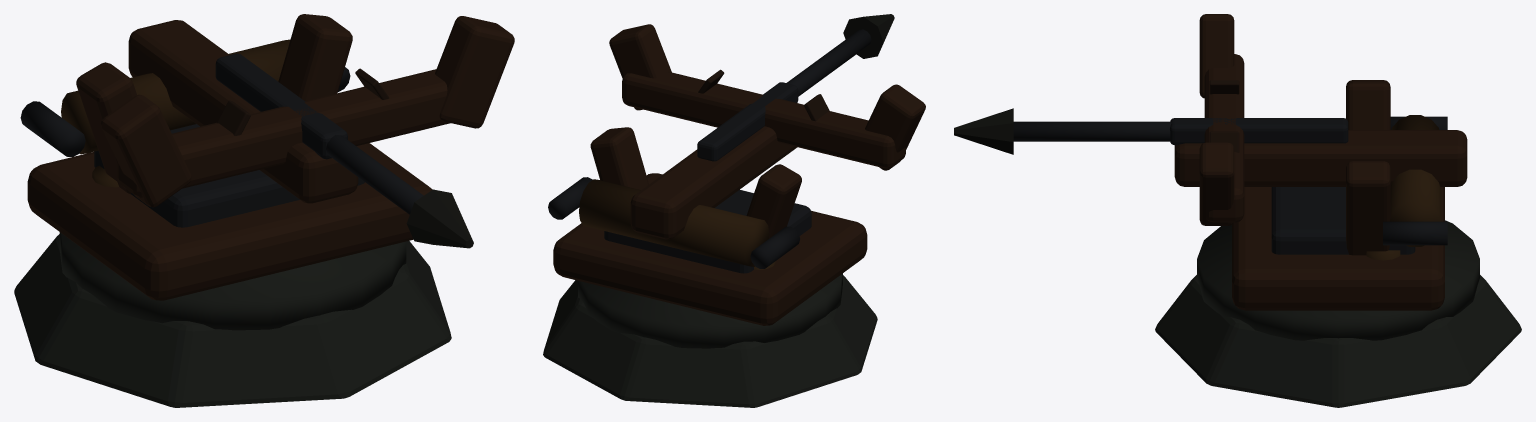
Rendered from TowerSeed0_pose.obj.
The picture shows the model from 3 angles, left to right: view 1: azimuth 30°, elevation 25°; view 2: azimuth 150°, elevation 25°; view 3: azimuth 270°, elevation 25°; orthographic projection. The views are drawn at different scales.
Visible parts, largest first — view 1: limestone_socket_lower_course, oak_bed, cut_stone_course, oak_bow_crossbar, ballista_stock, bow_tip.001, bow_tip, iron_turntable, oak_A_frame.001, iron_guide, bronze_windlass, oak_A_frame (+4 smaller); view 2: limestone_socket_lower_course, oak_bed, oak_bow_crossbar, cut_stone_course, ballista_stock, bronze_windlass, iron_guide, oak_A_frame.001, iron_turntable, oak_A_frame, bow_tip, bow_tip.001 (+5 smaller); view 3: limestone_socket_lower_course, oak_bed, ballista_stock, cut_stone_course, iron_turntable, oak_A_frame.001, iron_guide, oak_bow_crossbar, iron_bolt, bronze_windlass, bow_tip.001, oak_A_frame (+3 smaller).
Part boxes in pixels (x1=…): limestone_socket_lower_course: x1=14, y1=234, x2=451, y2=407; oak_bed: x1=27, y1=143, x2=432, y2=300; cut_stone_course: x1=59, y1=232, x2=406, y2=330; oak_bow_crossbar: x1=117, y1=69, x2=450, y2=197; ballista_stock: x1=128, y1=20, x2=358, y2=203; bow_tip.001: x1=435, y1=16, x2=514, y2=128; bow_tip: x1=100, y1=94, x2=191, y2=207; iron_turntable: x1=94, y1=124, x2=364, y2=227; oak_A_frame.001: x1=278, y1=14, x2=352, y2=100; iron_guide: x1=215, y1=53, x2=347, y2=159; bronze_windlass: x1=61, y1=39, x2=290, y2=154; oak_A_frame: x1=76, y1=62, x2=136, y2=194; limestone_socket_lower_course: x1=543, y1=275, x2=877, y2=407; oak_bed: x1=553, y1=173, x2=867, y2=325; oak_bow_crossbar: x1=622, y1=71, x2=905, y2=168; cut_stone_course: x1=578, y1=273, x2=842, y2=348; ballista_stock: x1=630, y1=126, x2=797, y2=239; bronze_windlass: x1=579, y1=179, x2=769, y2=266; iron_guide: x1=697, y1=82, x2=798, y2=161; oak_A_frame.001: x1=590, y1=127, x2=648, y2=189; iron_turntable: x1=604, y1=189, x2=811, y2=273; oak_A_frame: x1=746, y1=164, x2=801, y2=238; bow_tip: x1=865, y1=84, x2=925, y2=170; bow_tip.001: x1=609, y1=24, x2=671, y2=110; limestone_socket_lower_course: x1=1155, y1=275, x2=1521, y2=407; oak_bed: x1=1232, y1=187, x2=1444, y2=310; ballista_stock: x1=1174, y1=130, x2=1467, y2=186; cut_stone_course: x1=1197, y1=220, x2=1479, y2=340; iron_turntable: x1=1271, y1=187, x2=1415, y2=254; oak_A_frame.001: x1=1346, y1=161, x2=1390, y2=255; iron_guide: x1=1170, y1=118, x2=1348, y2=145; oak_bow_crossbar: x1=1204, y1=54, x2=1244, y2=222; iron_bolt: x1=1013, y1=121, x2=1171, y2=141; bronze_windlass: x1=1390, y1=115, x2=1441, y2=246; bow_tip.001: x1=1199, y1=142, x2=1234, y2=225; oak_A_frame: x1=1346, y1=80, x2=1390, y2=129.
Bounding box in the file's own units: 1.51 × 1.12 × 2.29.
